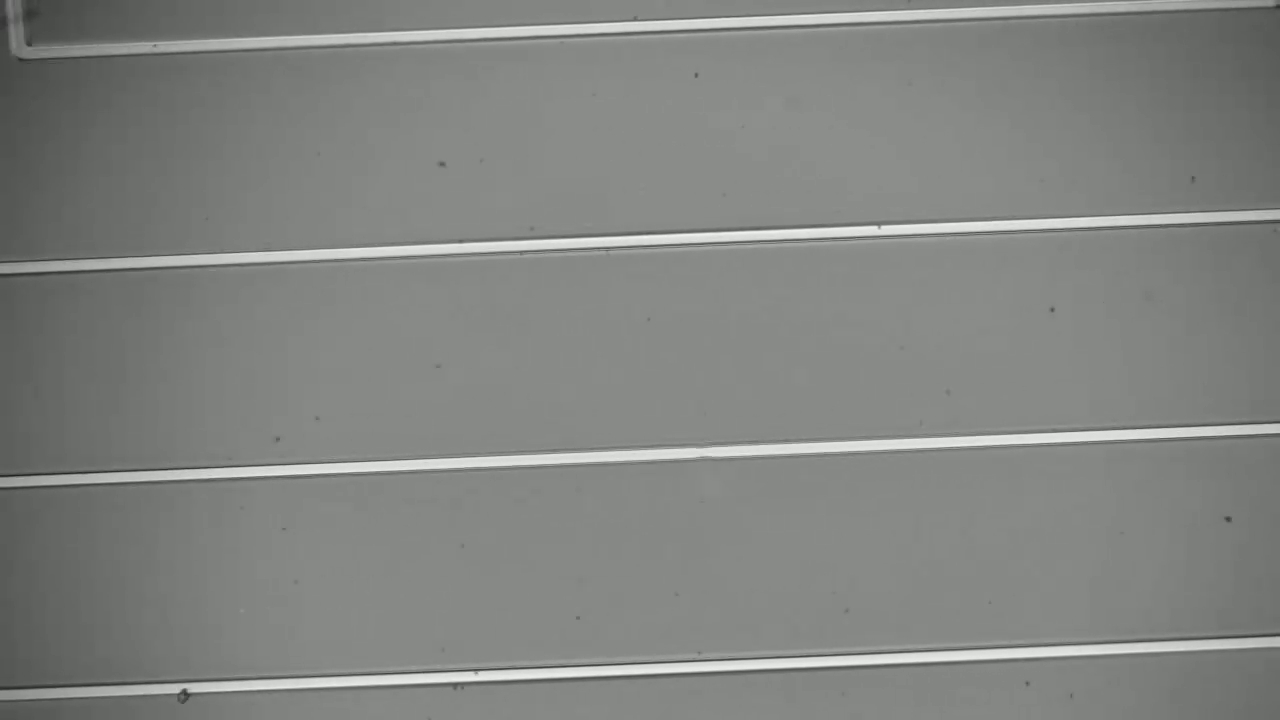stains_enbedded: (168, 675, 199, 708)
